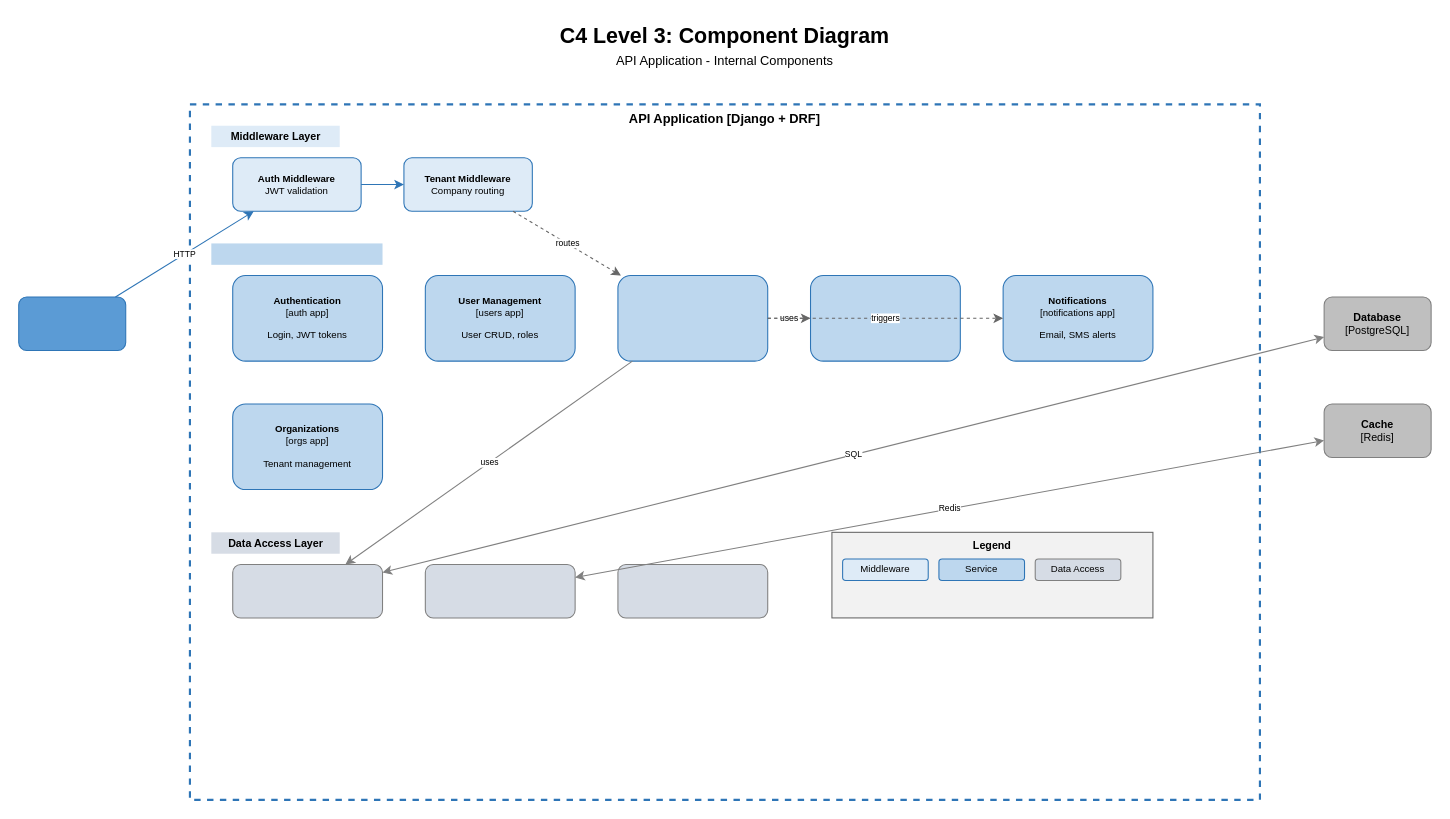
The diagram is 1450 pixels wide and 819 high, and some of its shapes have lost their labels. The shapes that lost their labels are listed below. From the top down, each one's box as (x1, y1, x2, y2) in pixels, then its label:
(211, 243, 382, 264): Service Layer (Django Apps)
(18, 296, 126, 350): Web App [React]
(617, 274, 768, 361): Problem Management [problems app] Problem CRUD, status
(809, 274, 960, 361): Assignment [assignments app] Assign problems
(232, 563, 383, 618): Django ORM Database abstraction
(424, 563, 575, 618): Cache Manager Redis client
(617, 563, 768, 618): Task Queue Celery client
